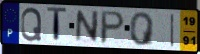I: (169, 13, 176, 49)
N: (74, 10, 100, 44)
P: (99, 10, 127, 46)
Q: (129, 12, 156, 48), (20, 6, 43, 43)
T: (46, 6, 68, 45)
